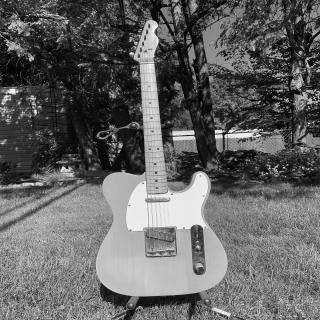Fender Telecaster: (95, 14, 234, 306)
SS: (142, 192, 179, 260)
